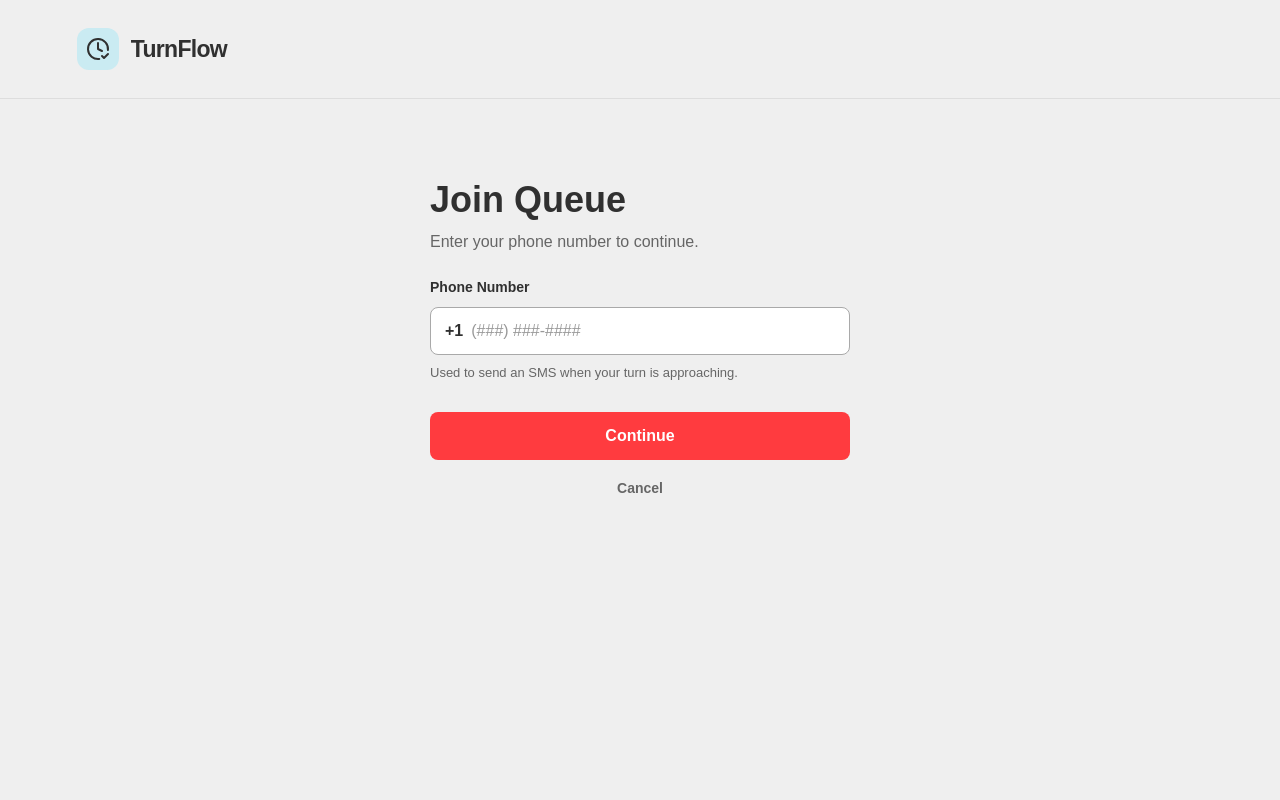
it: CustomerJoinDetails › shows a Find My Ticket link when an active ticket already exists
Type "7871234567" into the field labelled "Phone Number". click: (656, 331)
box: [463, 308, 849, 354]
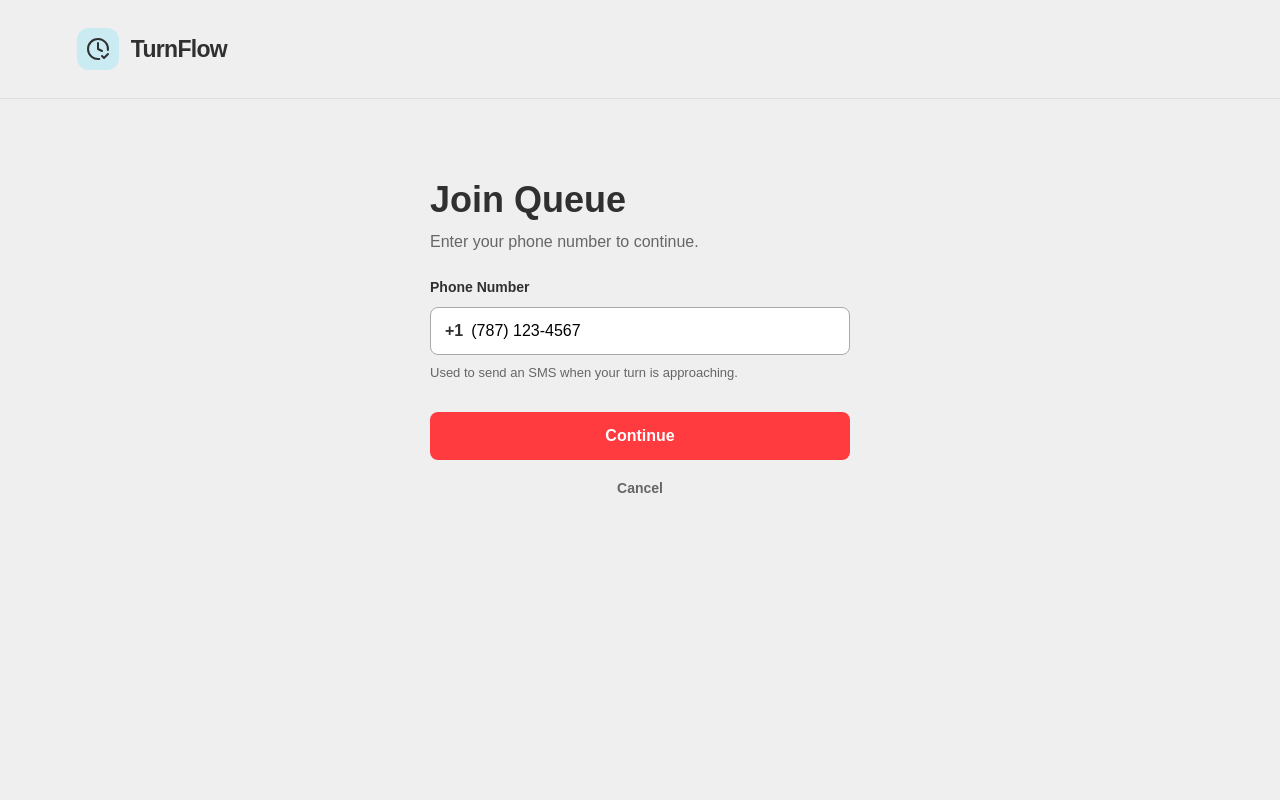
Click the button "Continue". click: (640, 436)
box: [430, 412, 850, 460]
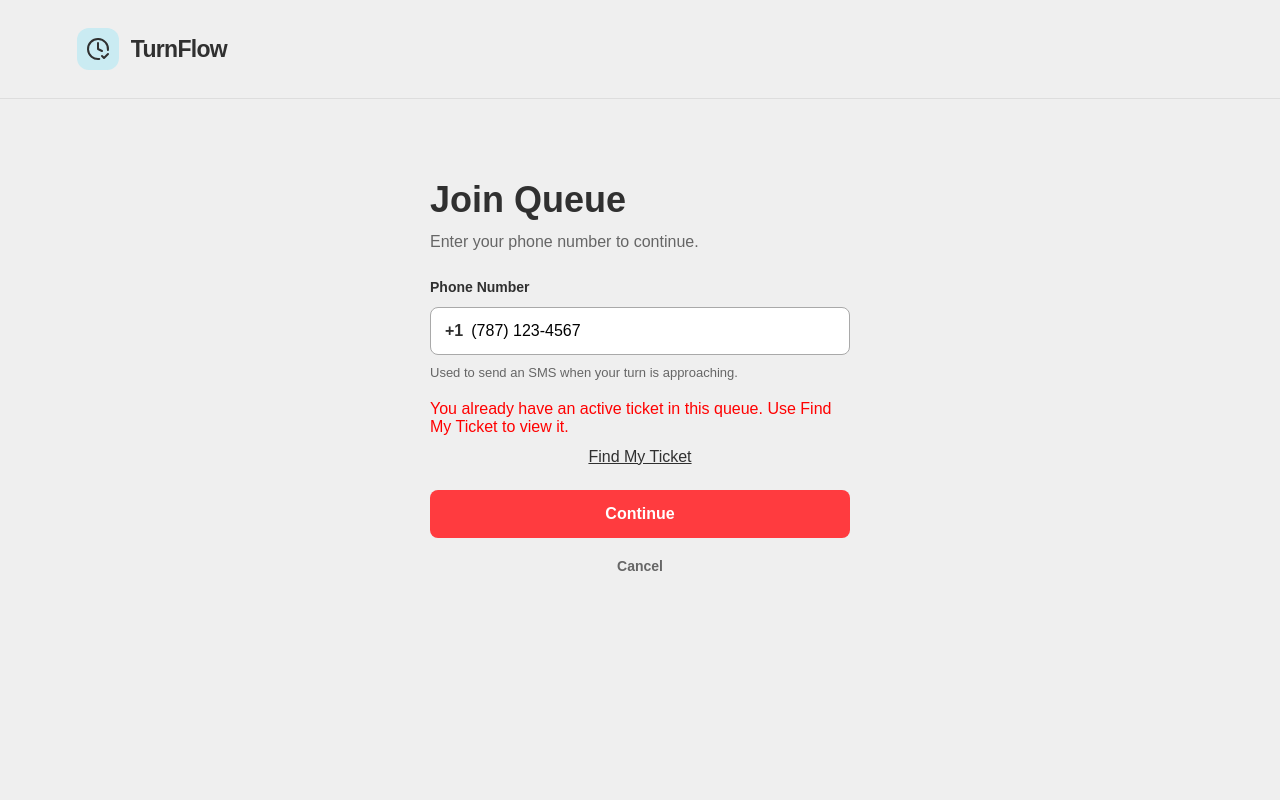
Check: the button "Continue" is enabled, box [430, 490, 850, 538]
Check: the message reads "You already have an active ticket in this queue. Use Find My Ticket to view it.", box [430, 400, 831, 435]
